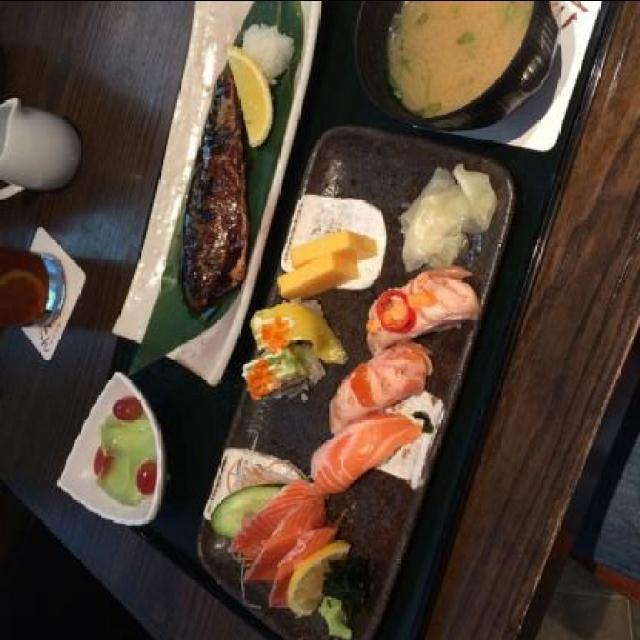Cheese: (274, 250, 360, 302), (290, 231, 379, 271)
